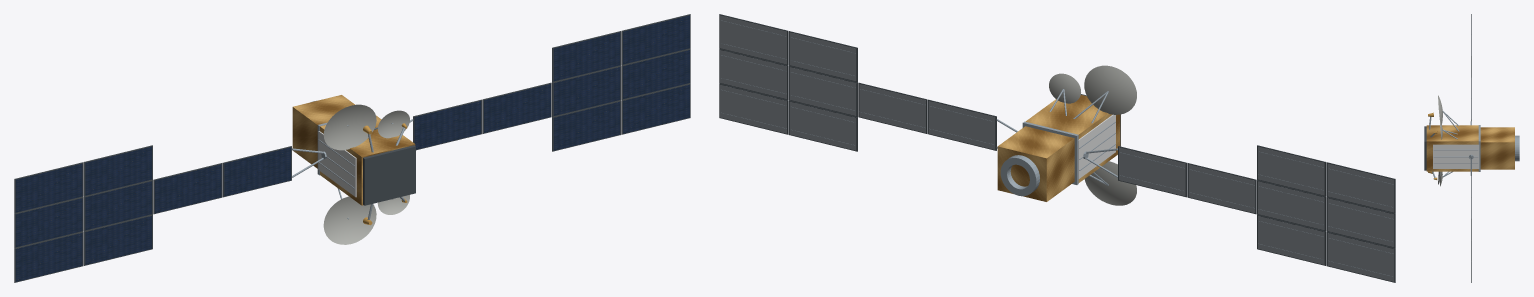
Rendered from ref-dfh-5-44910.glb.
3 views of the same model, side by side, from view 1: azimuth 30°, elevation 25°; view 2: azimuth 150°, elevation 25°; view 3: azimuth 270°, elevation 25° (orthographic). The views are drawn at different scales.
Parts seen in each view (by area): view 1: Solar cell panel (×16), Communications reflector (×3), Earth-facing deck, Service module, Payload module, Radiator face; view 2: Rear array substrate (×16), Communications reflector (×3), Service module, Payload module, Radiator face, Launch adapter ring, Module interface; view 3: Service module, Payload module, Radiator face, Radiator seam (×2), Earth-facing deck, Launch adapter ring, Module interface, Communications reflector.
Part boxes in pixels (x1,y1,x2,y2): Solar cell panel (×16): (15, 15, 689, 281); Communications reflector (×3): (323, 104, 409, 244); Earth-facing deck: (363, 145, 415, 205); Service module: (292, 95, 355, 168); Payload module: (320, 115, 415, 205); Radiator face: (318, 131, 356, 197); Rear array substrate (×16): (720, 15, 1394, 281); Communications reflector (×3): (1049, 65, 1136, 205); Service module: (997, 126, 1074, 201); Payload module: (1025, 95, 1120, 182); Radiator face: (1078, 114, 1115, 179); Launch adapter ring: (1000, 155, 1039, 196); Module interface: (1022, 121, 1078, 184); Service module: (1480, 127, 1514, 169); Payload module: (1426, 125, 1478, 171); Radiator face: (1433, 144, 1479, 168); Radiator seam (×2): (1434, 149, 1477, 157); Earth-facing deck: (1424, 126, 1426, 170); Launch adapter ring: (1515, 135, 1519, 161); Module interface: (1478, 125, 1480, 171); Communications reflector: (1438, 95, 1442, 124).
Bounding box in the file's own units: 37.96 × 7.43 × 7.48.
8 materials, 2 textured.
